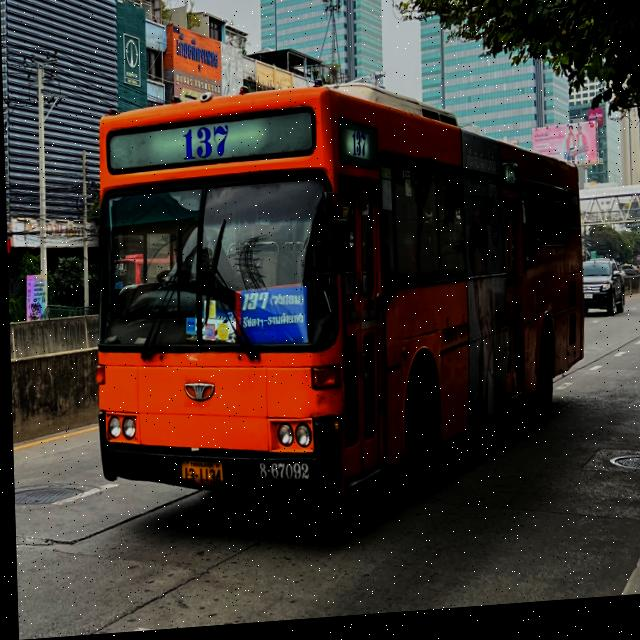BMTA-bus: (86, 76, 589, 526)
Bus-Line-Number: (168, 119, 237, 167)
Destination-Sign-Normal: (239, 288, 308, 357)
